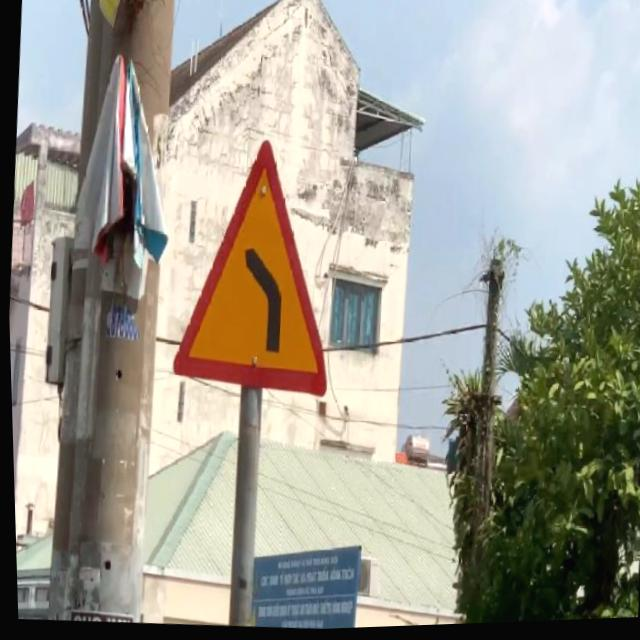cho ngoat nguy hiem vong ben trai: (150, 110, 356, 424)
